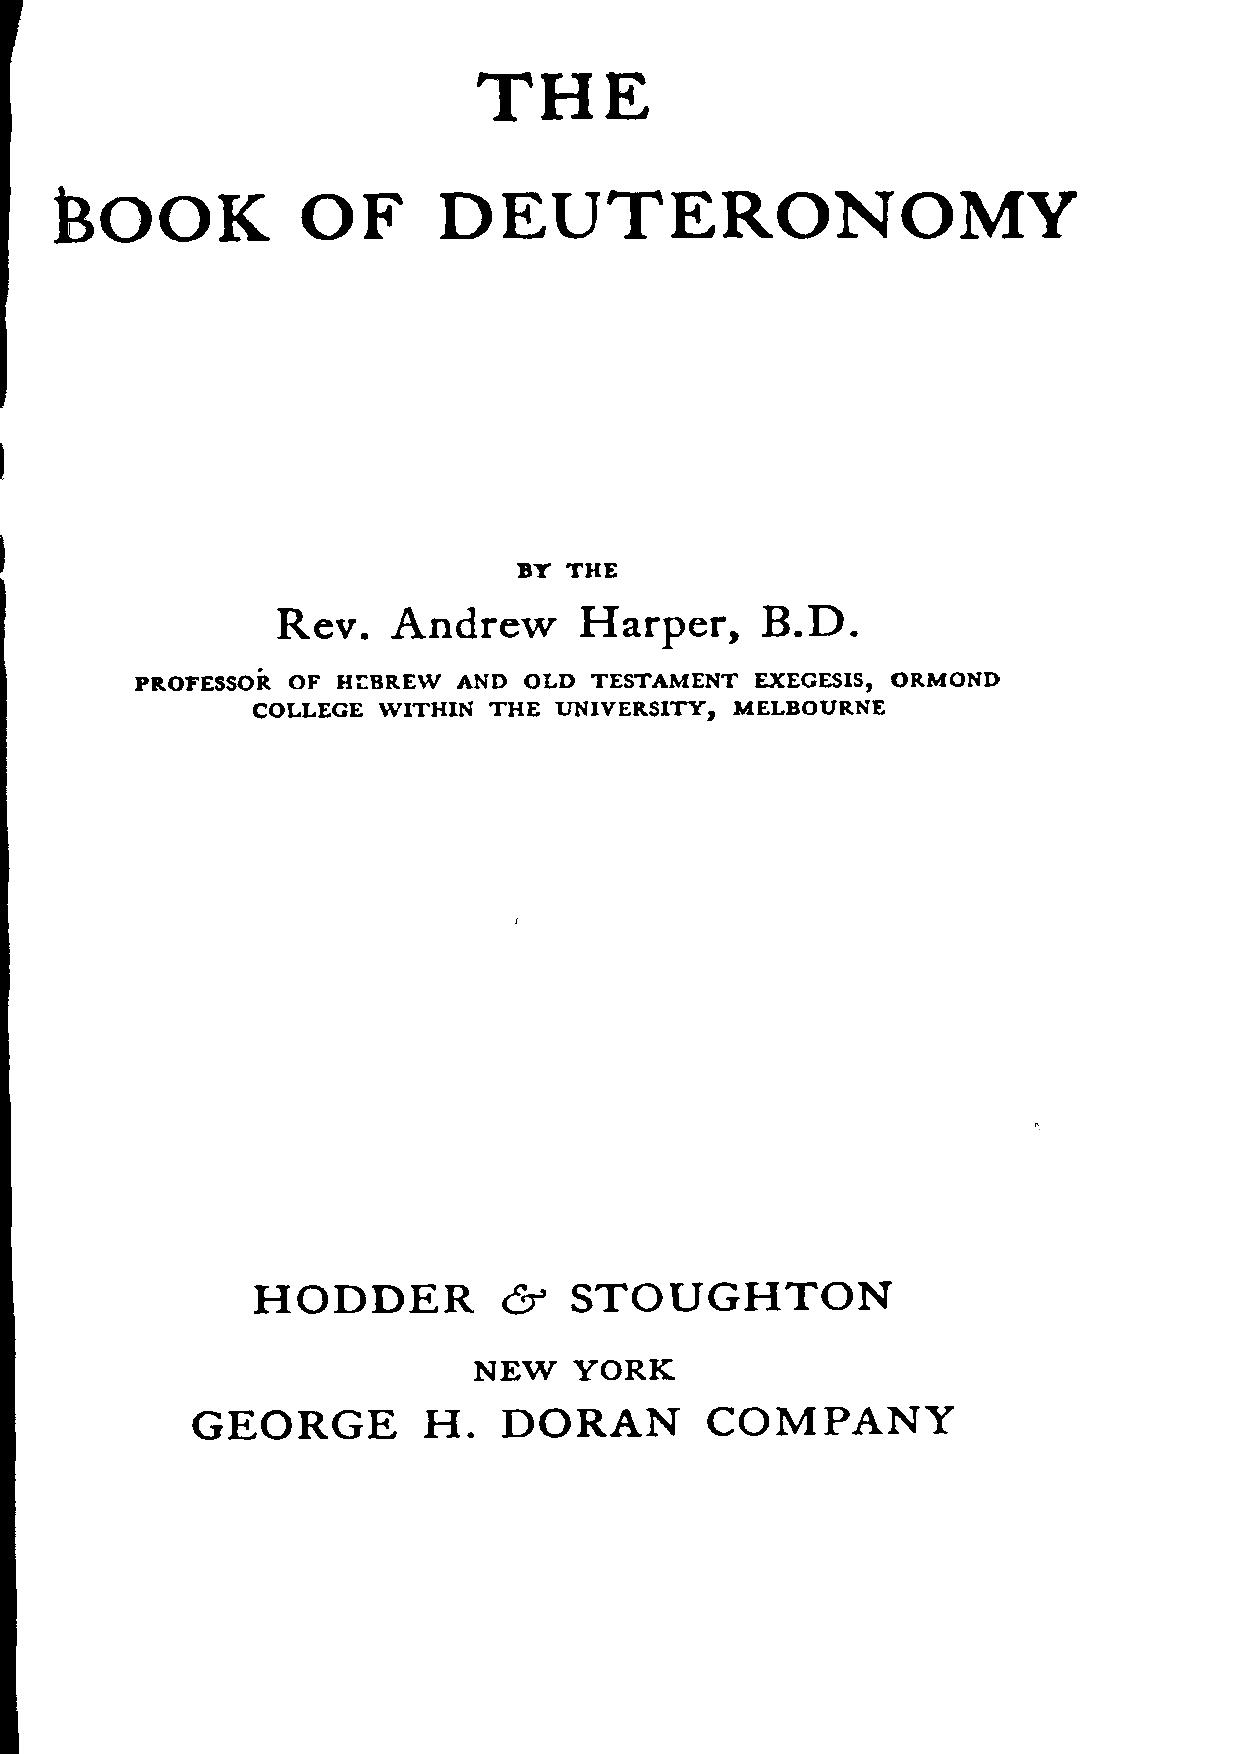author: (272, 560, 860, 650)
title: (50, 68, 1079, 246)
